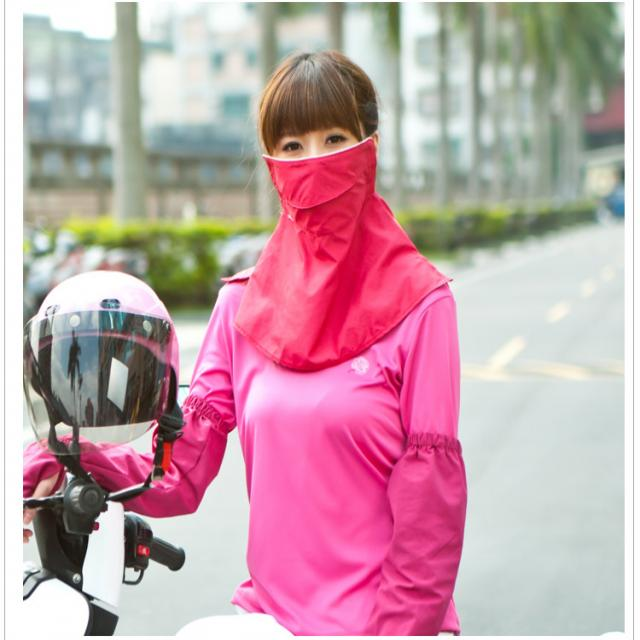mask: (270, 96, 365, 218)
